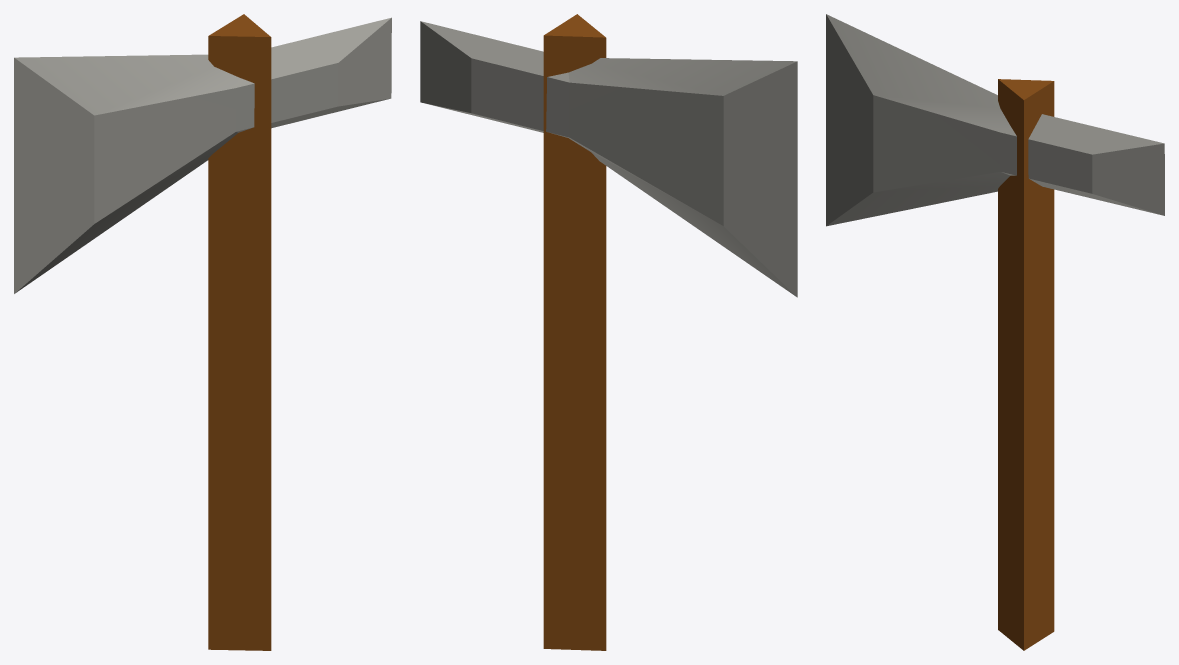
File: battleaxe.fbx
The picture shows the model from 3 angles, left to right: view 1: azimuth 30°, elevation 25°; view 2: azimuth 150°, elevation 25°; view 3: azimuth 330°, elevation 25°; orthographic projection. The views are drawn at different scales.
Visible parts, largest first — view 1: polySurface177; view 2: polySurface177; view 3: polySurface177.
Part boxes in pixels (x1,y1,x2,y2): polySurface177: (14, 14, 391, 650); polySurface177: (420, 14, 797, 650); polySurface177: (826, 14, 1164, 650).
Bounding box in the file's own units: 16.04 × 25.9 × 2.25.
1 material, 1 textured.
